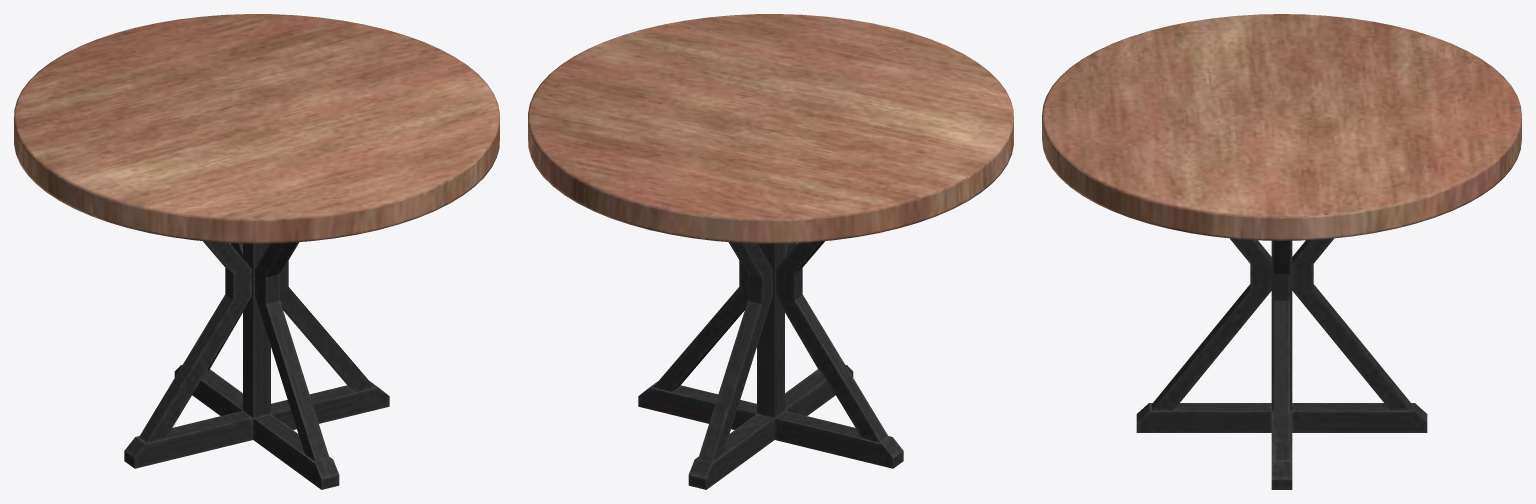
The model's file is Table26.glb.
3 views of the same model, side by side, from view 1: azimuth 30°, elevation 25°; view 2: azimuth 150°, elevation 25°; view 3: azimuth 270°, elevation 25° (orthographic).
Parts seen in each view (by area): view 1: Table26_model; view 2: Table26_model; view 3: Table26_model.
Boxes of the visible parts, x1,y1,x2,y2 form: Table26_model: (14,14,499,489); Table26_model: (528,14,1013,489); Table26_model: (1042,14,1521,489).
Size of the model in its own units: 2.2 by 1.59 by 2.2.
Materials: 1 (1 with a texture image).
